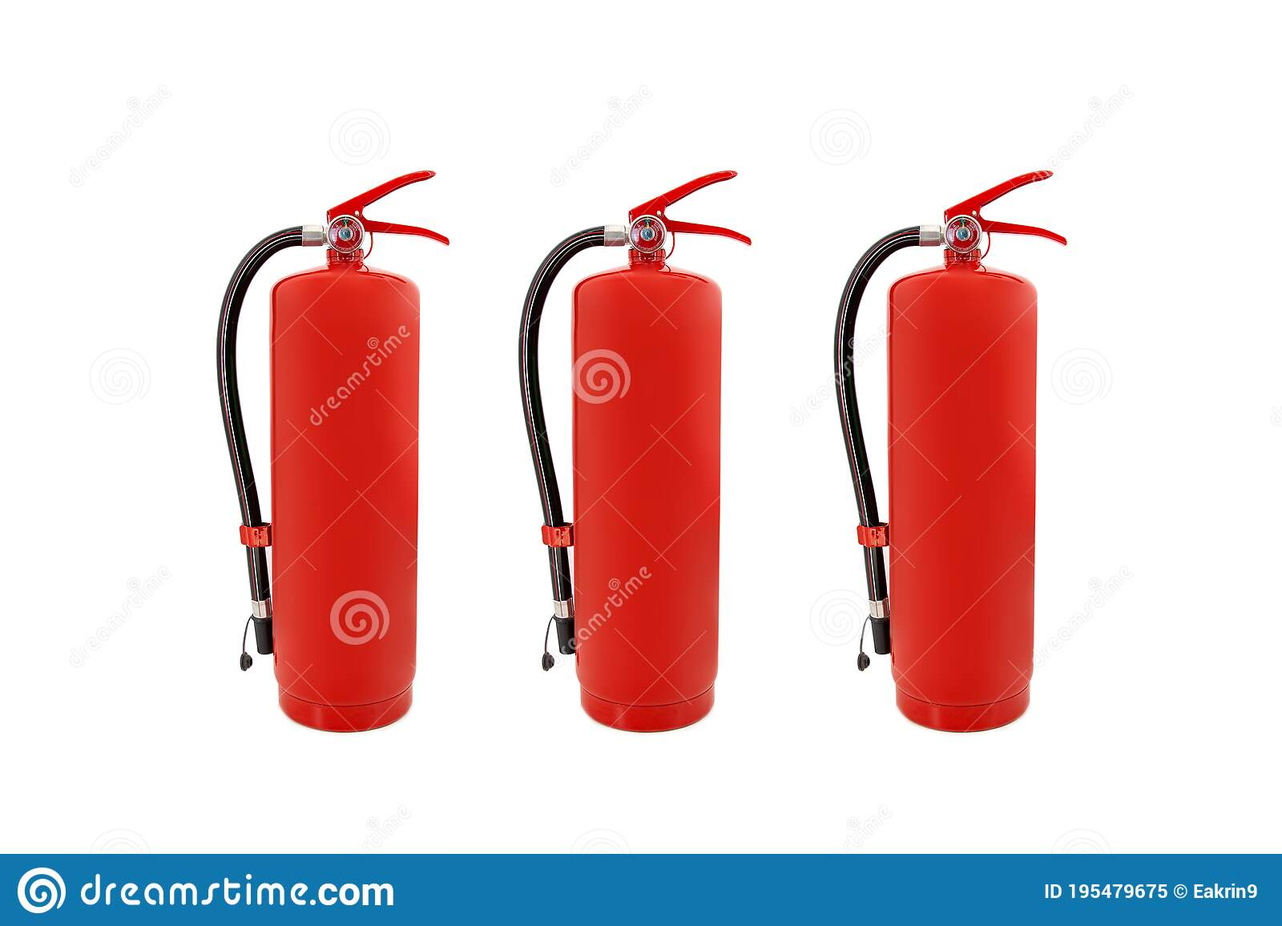fire_extinguisher: (517, 168, 753, 733), (833, 168, 1068, 733), (215, 168, 450, 733)
